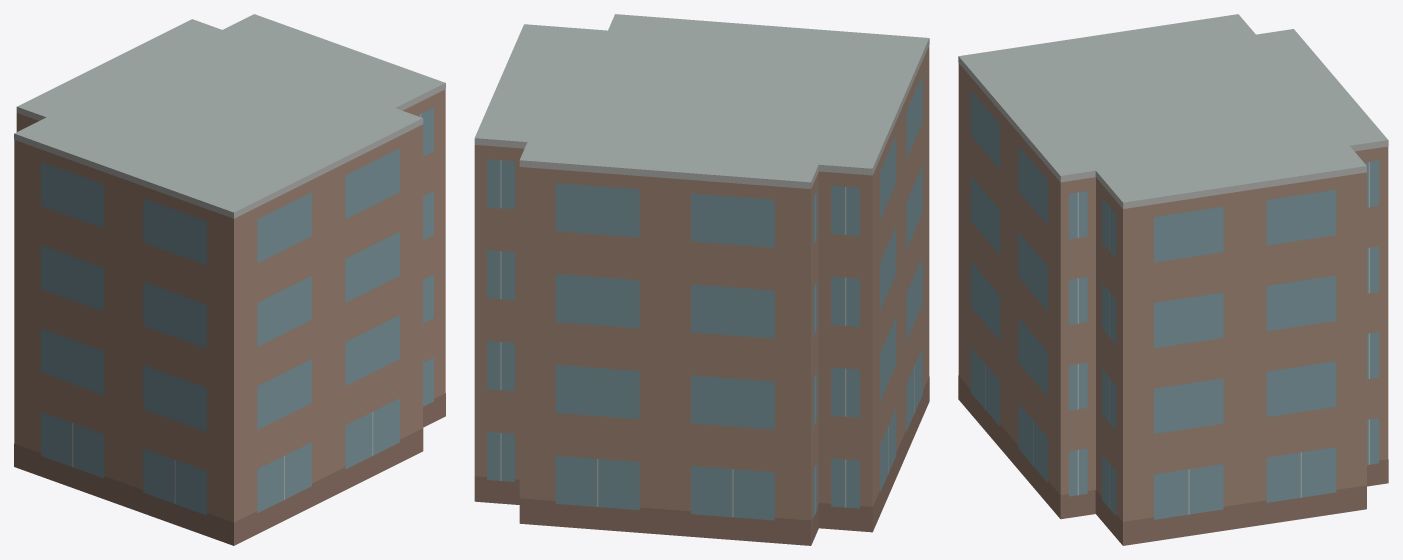
The model's file is survey-upis-32578289.glb.
3 renders of one model, left to right at view 1: azimuth 30°, elevation 25°; view 2: azimuth 150°, elevation 25°; view 3: azimuth 270°, elevation 25°, orthographic. The views are drawn at different scales.
Parts seen in each view (by area): view 1: survey-upis-32578289.tmp; view 2: survey-upis-32578289.tmp; view 3: survey-upis-32578289.tmp.
Boxes of the visible parts, x1,y1,x2,y2 form: survey-upis-32578289.tmp: (14, 14, 445, 545); survey-upis-32578289.tmp: (474, 14, 929, 545); survey-upis-32578289.tmp: (958, 14, 1388, 545).
Size of the model in its own units: 15.57 by 13.19 by 14.99.
